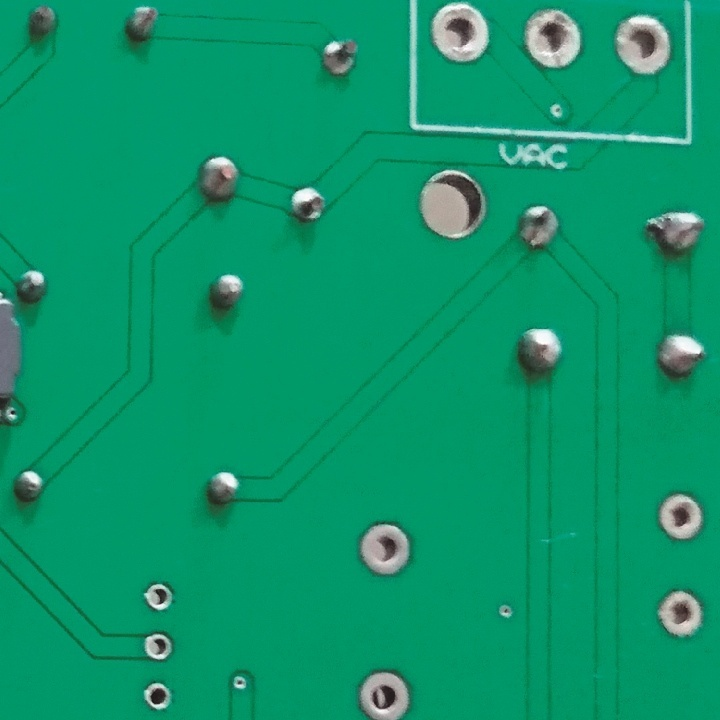F: (429, 1, 489, 71), (615, 9, 671, 78), (524, 6, 585, 68), (356, 520, 414, 578), (357, 666, 412, 720), (654, 491, 703, 546), (656, 588, 704, 641), (141, 681, 176, 713), (141, 632, 176, 662), (144, 583, 176, 613)
